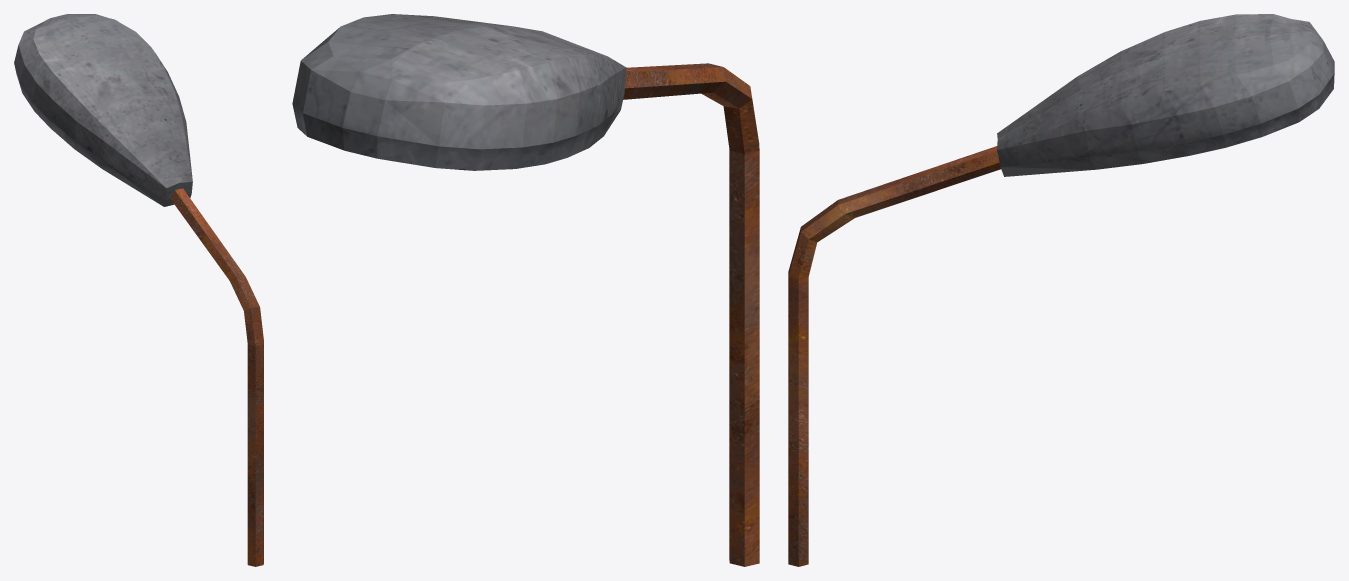
The model's file is lampSov_01.glb.
3 renders of one model, left to right at view 1: azimuth 30°, elevation 25°; view 2: azimuth 150°, elevation 25°; view 3: azimuth 270°, elevation 25°, orthographic. The views are drawn at different scales.
Parts seen in each view (by area): view 1: geometry_1, geometry_0; view 2: geometry_1, geometry_0; view 3: geometry_1, geometry_0.
Part boxes in pixels (left/top/right/bottom): geometry_1: left=14, top=14, right=192, bottom=206; geometry_0: left=170, top=188, right=263, bottom=566; geometry_1: left=292, top=14, right=626, bottom=170; geometry_0: left=623, top=63, right=759, bottom=566; geometry_1: left=997, top=14, right=1334, bottom=176; geometry_0: left=788, top=146, right=1000, bottom=566.
Size of the model in its own units: 1.72 by 5.52 by 5.16.
Materials: 2 (2 with a texture image).
